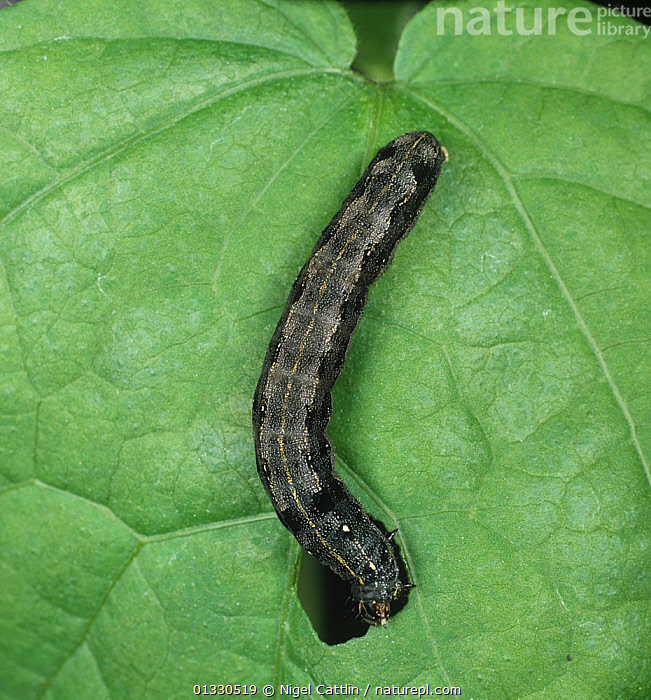Armyworm: (242, 112, 476, 640)
